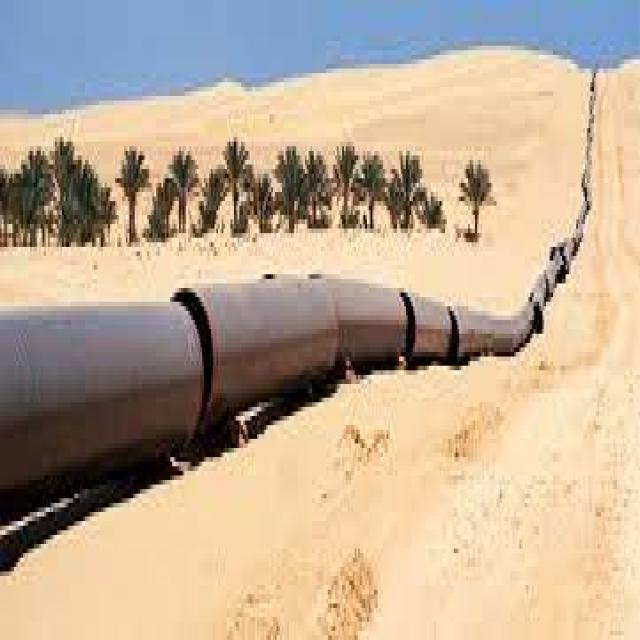gas: (0, 243, 572, 492)
